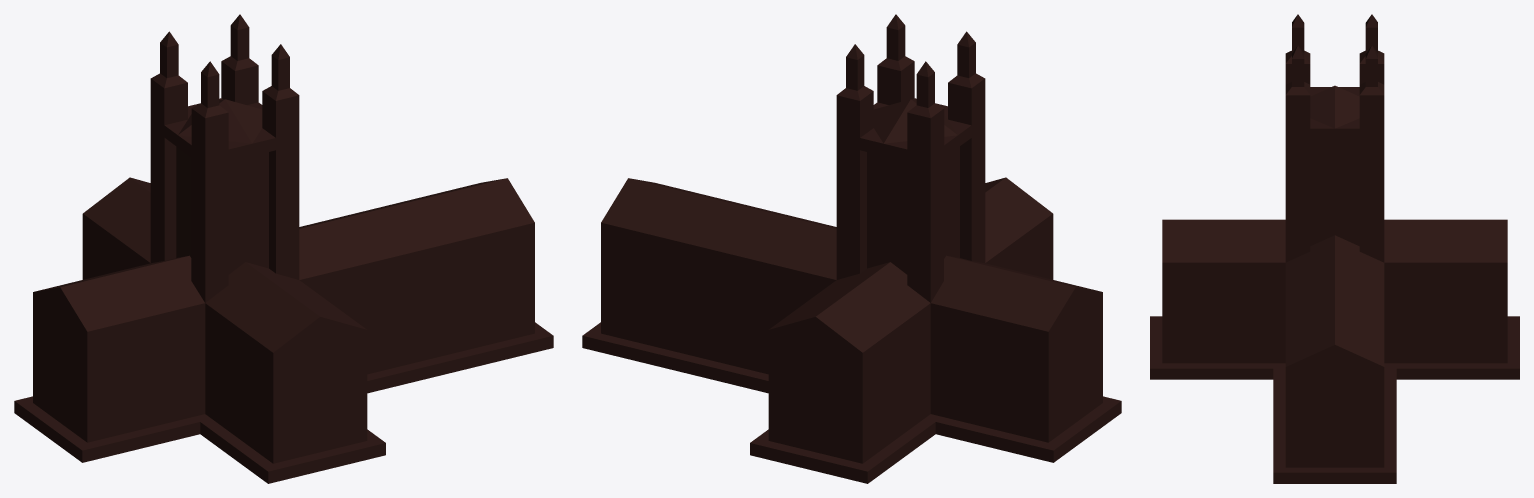
File: Cathedral.glb
3 renders of one model, left to right at view 1: azimuth 30°, elevation 25°; view 2: azimuth 150°, elevation 25°; view 3: azimuth 270°, elevation 25°, orthographic. The views are drawn at different scales.
Parts seen in each view (by area): view 1: 0Cathedral; view 2: 0Cathedral; view 3: 0Cathedral.
Part boxes in pixels (x1=…): 0Cathedral: x1=14, y1=14, x2=553, y2=483; 0Cathedral: x1=582, y1=14, x2=1121, y2=483; 0Cathedral: x1=1150, y1=14, x2=1519, y2=483.
Bounding box in the file's own units: 4 × 2.9 × 3.
